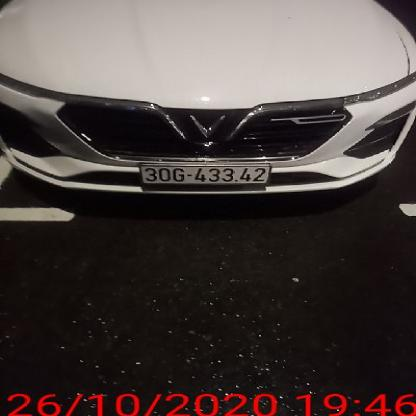biensoxe: (144, 163, 274, 188)
